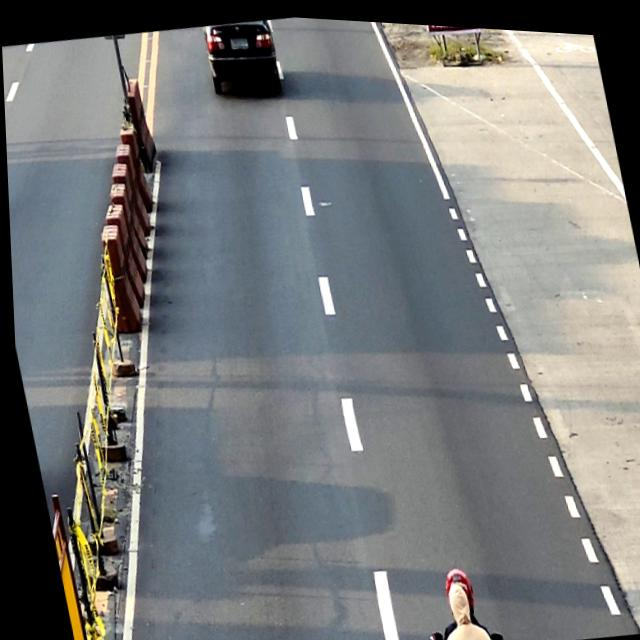Car: (200, 13, 285, 100)
License-Plate: (230, 32, 249, 47)
